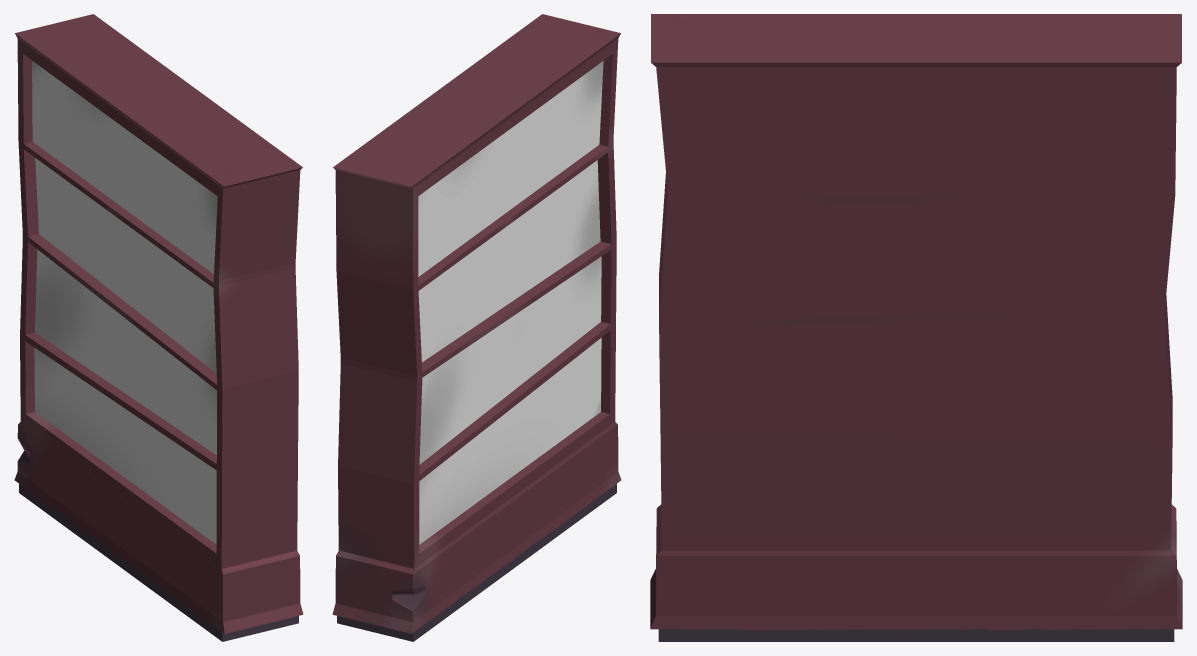
The model's file is estanteria.fbx.
The picture shows the model from 3 angles, left to right: view 1: azimuth 30°, elevation 25°; view 2: azimuth 150°, elevation 25°; view 3: azimuth 270°, elevation 25°; orthographic projection. The views are drawn at different scales.
Parts seen in each view (by area): view 1: Cube, Cube.001; view 2: Cube, Cube.001; view 3: Cube.
Boxes of the visible parts, x1,y1,x2,y2 form: Cube: (14,14,303,641); Cube.001: (32,60,217,544); Cube: (332,14,621,641); Cube.001: (418,61,603,544); Cube: (650,14,1182,641).
Size of the model in its own units: 174 by 964 by 802.
2 materials, 2 textured.
